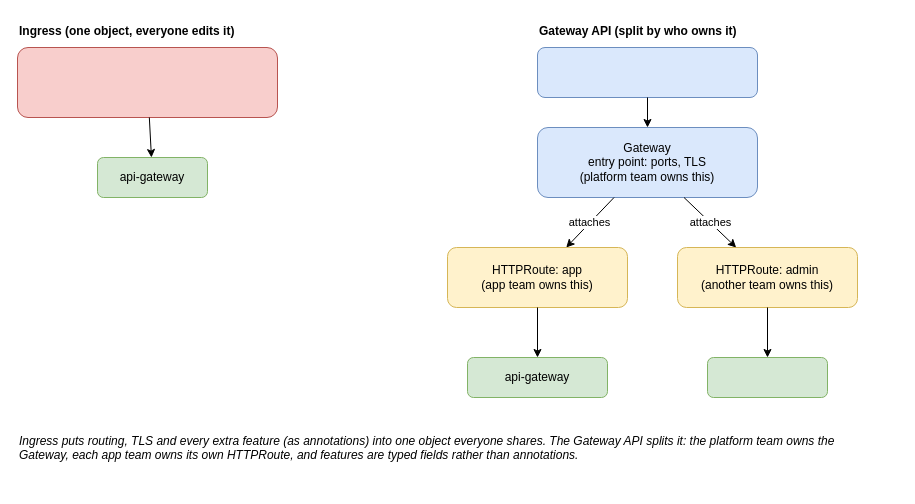
Some shapes in this 915 by 504 pixel diagram are drawn without their labels. The shapes that lost their labels are listed below. From the top down, each one's centre as x and y in pixels, then its label:
the point at 147,82: Ingress host + path + TLS + annotations
the point at 647,72: GatewayClass (which controller, set once)
the point at 767,377: admin
